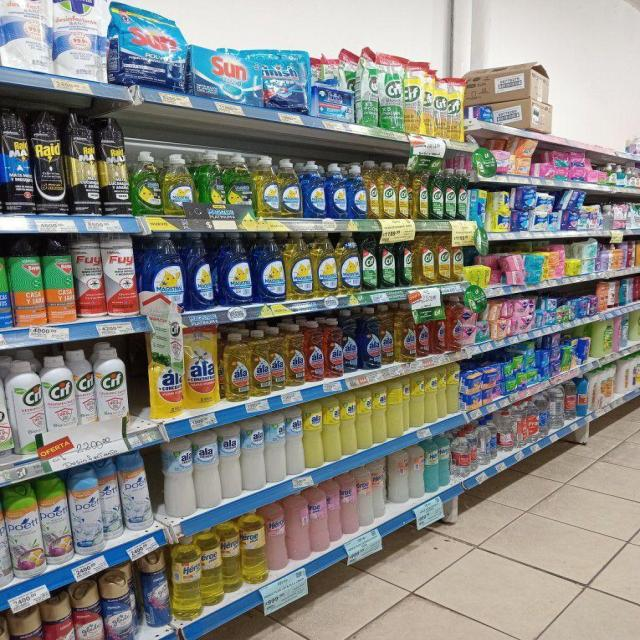ala_conc_amarillo: (222, 332, 250, 401), (250, 328, 270, 396), (286, 323, 305, 388), (396, 302, 416, 363), (270, 326, 286, 392), (380, 304, 394, 364)
ala_conc_azul: (360, 306, 380, 370), (343, 310, 358, 374)
ala_conc_rojo: (305, 321, 324, 382), (325, 317, 343, 378), (446, 295, 462, 352), (430, 300, 446, 355), (416, 303, 430, 358)
ala_crem_amarillo: (304, 402, 322, 469), (387, 377, 405, 439), (324, 397, 340, 463), (357, 388, 372, 451), (342, 392, 356, 457), (373, 383, 387, 444), (410, 372, 424, 429), (447, 364, 460, 415), (425, 369, 437, 424), (438, 366, 447, 420)
ala_crem_blanco: (162, 436, 194, 518), (195, 431, 220, 510), (242, 418, 265, 492), (220, 423, 241, 500), (265, 412, 286, 483), (287, 407, 304, 476)
ala_sachet_amarillo: (148, 332, 183, 418), (185, 326, 218, 409)
cif_conc_bot_amarilla: (416, 233, 435, 285), (412, 162, 429, 220), (380, 161, 396, 219), (396, 162, 411, 219), (366, 160, 380, 220), (436, 232, 450, 284), (451, 234, 464, 282)
cif_conc_botella_verde: (378, 233, 396, 289), (361, 232, 377, 291), (397, 233, 413, 287), (430, 164, 443, 220), (444, 167, 456, 220), (457, 167, 468, 220)
cif_conc_sachet_amarillo: (444, 76, 464, 141), (404, 60, 421, 134)
cif_conc_sachet_verde: (380, 54, 403, 130)
heroe: (170, 536, 200, 620), (240, 511, 266, 588), (201, 532, 221, 610), (266, 501, 287, 573), (222, 522, 240, 594), (310, 485, 327, 553), (388, 450, 408, 504), (342, 472, 358, 536), (373, 459, 387, 523), (409, 444, 424, 500), (424, 438, 438, 493), (439, 432, 453, 485)
magistral_con_amarillo: (163, 153, 196, 217), (285, 232, 312, 300), (312, 231, 337, 297), (254, 156, 279, 218), (338, 232, 360, 294), (279, 158, 301, 218)
magistral_con_azul: (145, 232, 184, 311), (218, 232, 252, 306), (185, 232, 215, 310), (254, 232, 284, 303), (302, 160, 325, 218), (326, 162, 347, 219), (348, 163, 366, 219)
magistral_con_verde: (225, 151, 257, 218), (133, 150, 165, 216), (198, 151, 226, 218)
